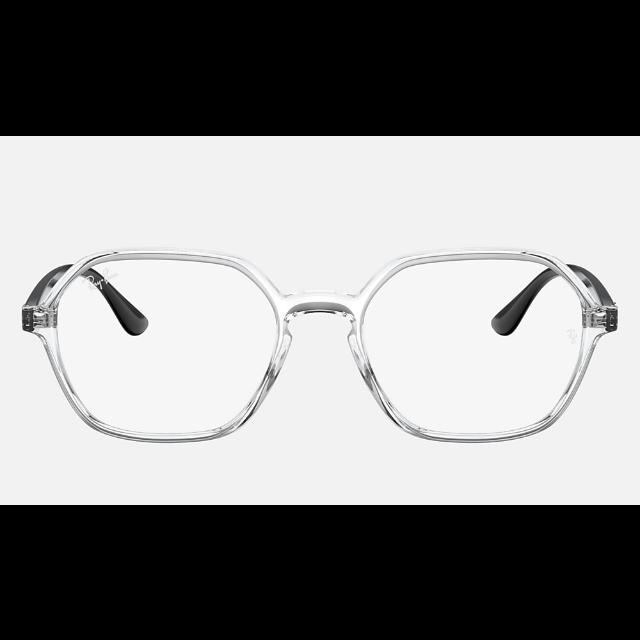glasses: (21, 246, 620, 442)
